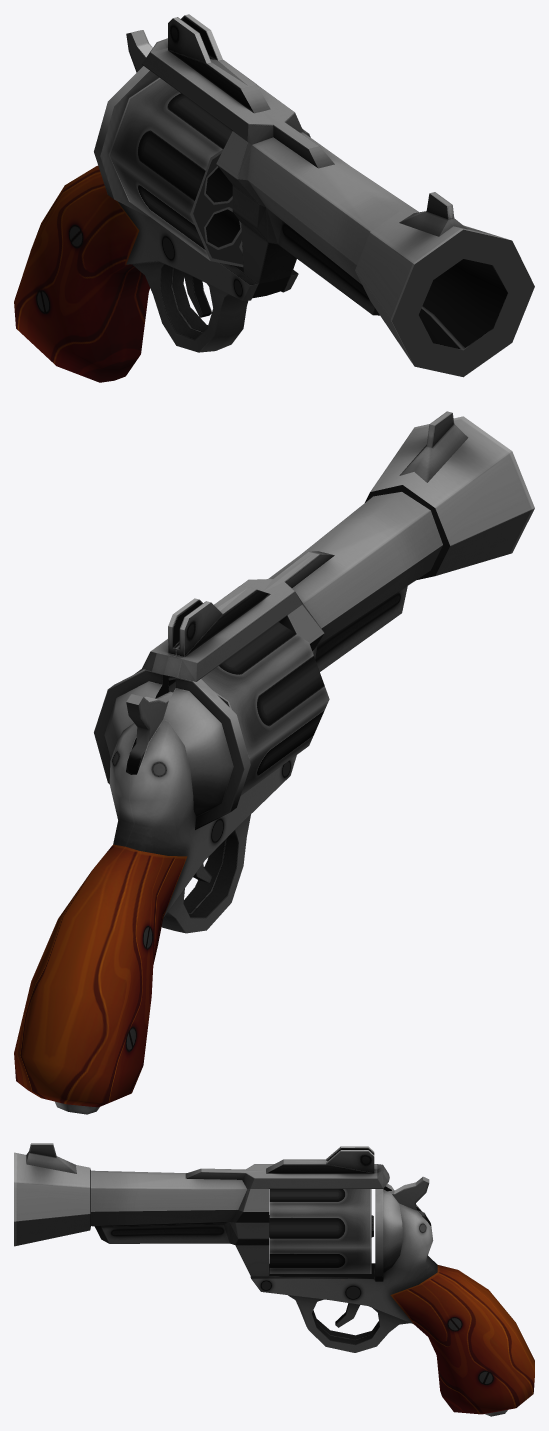
File: gun_a01.fbx
The picture shows the model from 3 angles, top to bottom: view 1: azimuth 30°, elevation 25°; view 2: azimuth 150°, elevation 25°; view 3: azimuth 270°, elevation 25°; orthographic projection. The views are drawn at different scales.
Parts seen in each view (by area): view 1: gun_a01_01, gun_a01_05, gun_a01_02, gun_a01_03, gun_a01_04; view 2: gun_a01_05, gun_a01_01, gun_a01_02, gun_a01_03; view 3: gun_a01_01, gun_a01_05, gun_a01_02, gun_a01_03.
Part boxes in pixels (left/top/right/bottom): gun_a01_01: left=142, top=14, right=534, bottom=377; gun_a01_05: left=14, top=66, right=298, bottom=382; gun_a01_02: left=108, top=77, right=310, bottom=267; gun_a01_03: left=126, top=30, right=152, bottom=72; gun_a01_04: left=183, top=272, right=211, bottom=317; gun_a01_05: left=14, top=669, right=296, bottom=1114; gun_a01_01: left=142, top=411, right=534, bottom=681; gun_a01_02: left=135, top=622, right=329, bottom=795; gun_a01_03: left=126, top=691, right=172, bottom=774; gun_a01_01: left=14, top=1143, right=389, bottom=1276; gun_a01_05: left=250, top=1183, right=534, bottom=1416; gun_a01_02: left=269, top=1189, right=373, bottom=1273; gun_a01_03: left=387, top=1176, right=429, bottom=1221.
Size of the model in its own units: 14.33 by 39.11 by 68.41.
